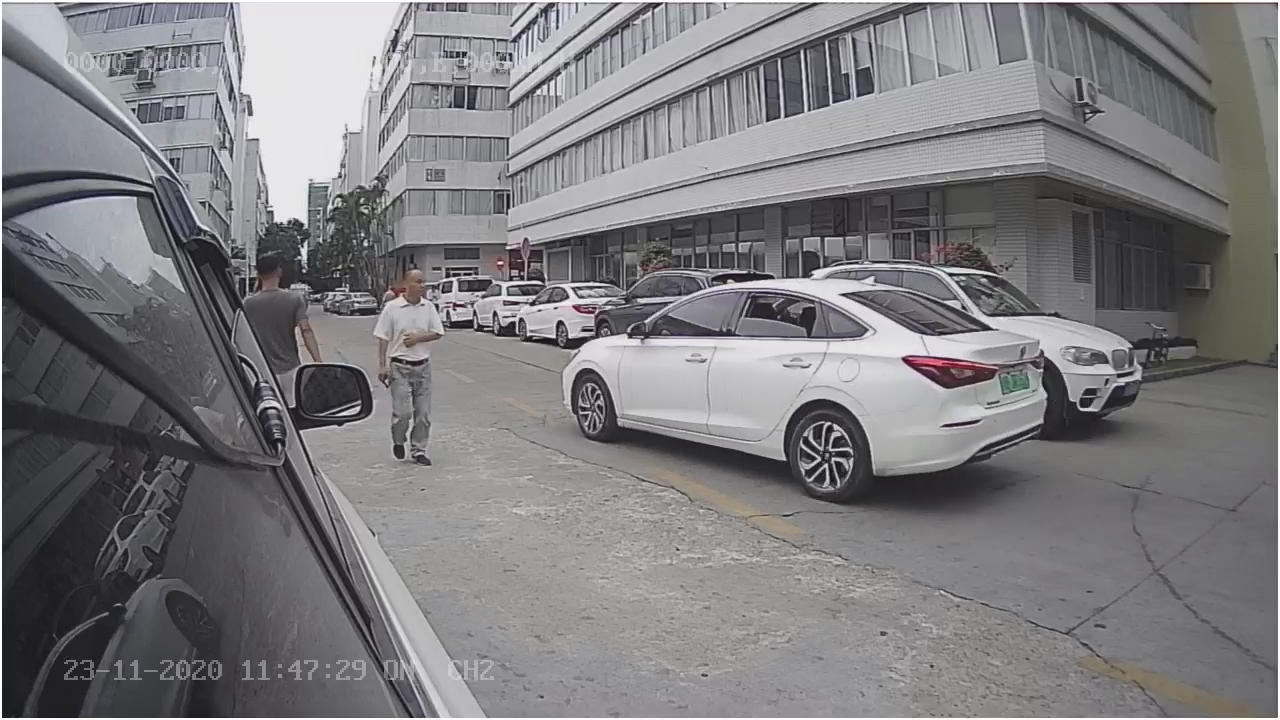person: (372, 252, 458, 471)
